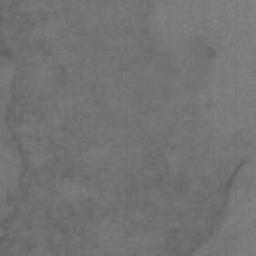Water spot: (0, 0, 251, 256)
